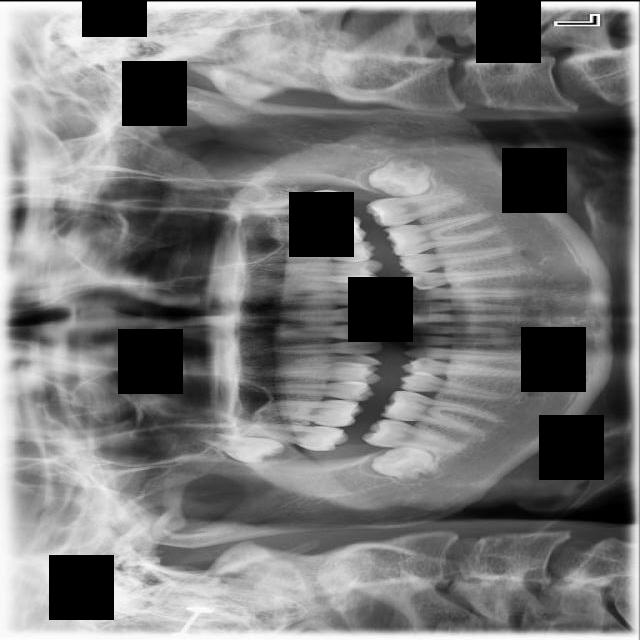3M ESPE Implant: (193, 429, 286, 466)
52: (364, 191, 418, 232), (314, 213, 367, 245)
73: (584, 33, 598, 44)
BioHorizons Implant: (234, 189, 354, 216)
Biomet 3i Implant: (368, 155, 431, 198)
Blue Sky Bio Implant: (365, 187, 470, 230)
Caries: (225, 418, 349, 453)
Implant: (361, 415, 466, 455)
Keystone Dental Implant: (368, 440, 439, 492)
